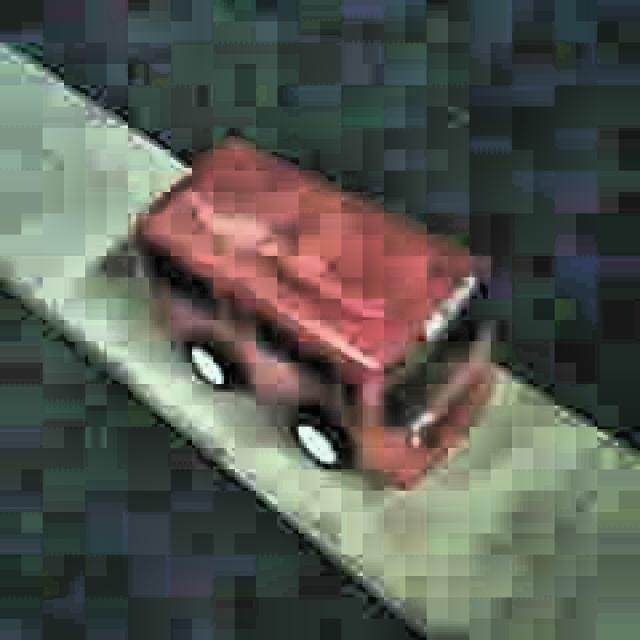bus: (132, 136, 493, 493)
